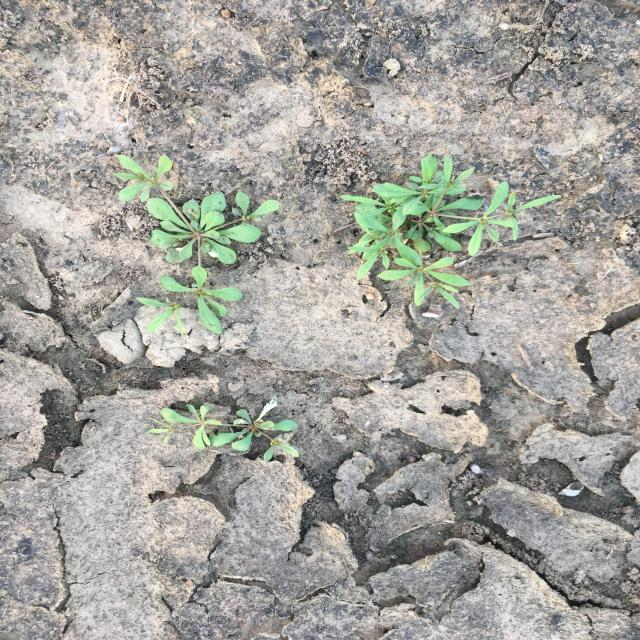Carpetweed: (338, 153, 564, 310), (111, 153, 281, 339), (144, 393, 302, 463)
